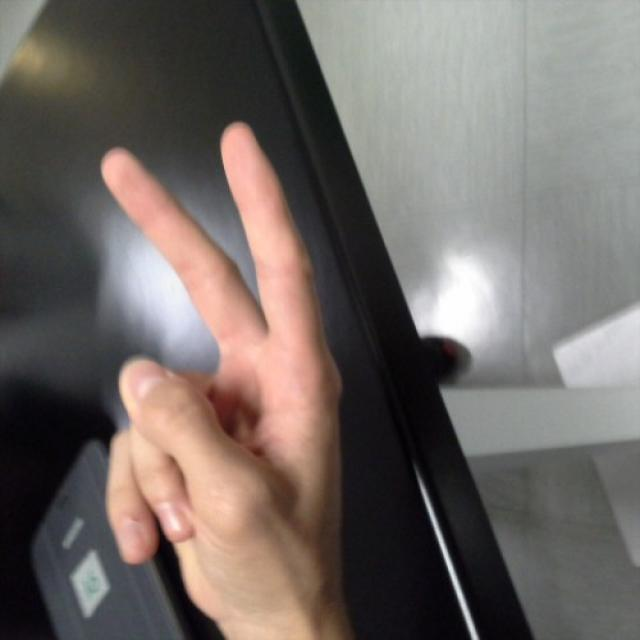scissors: (98, 118, 350, 592)
